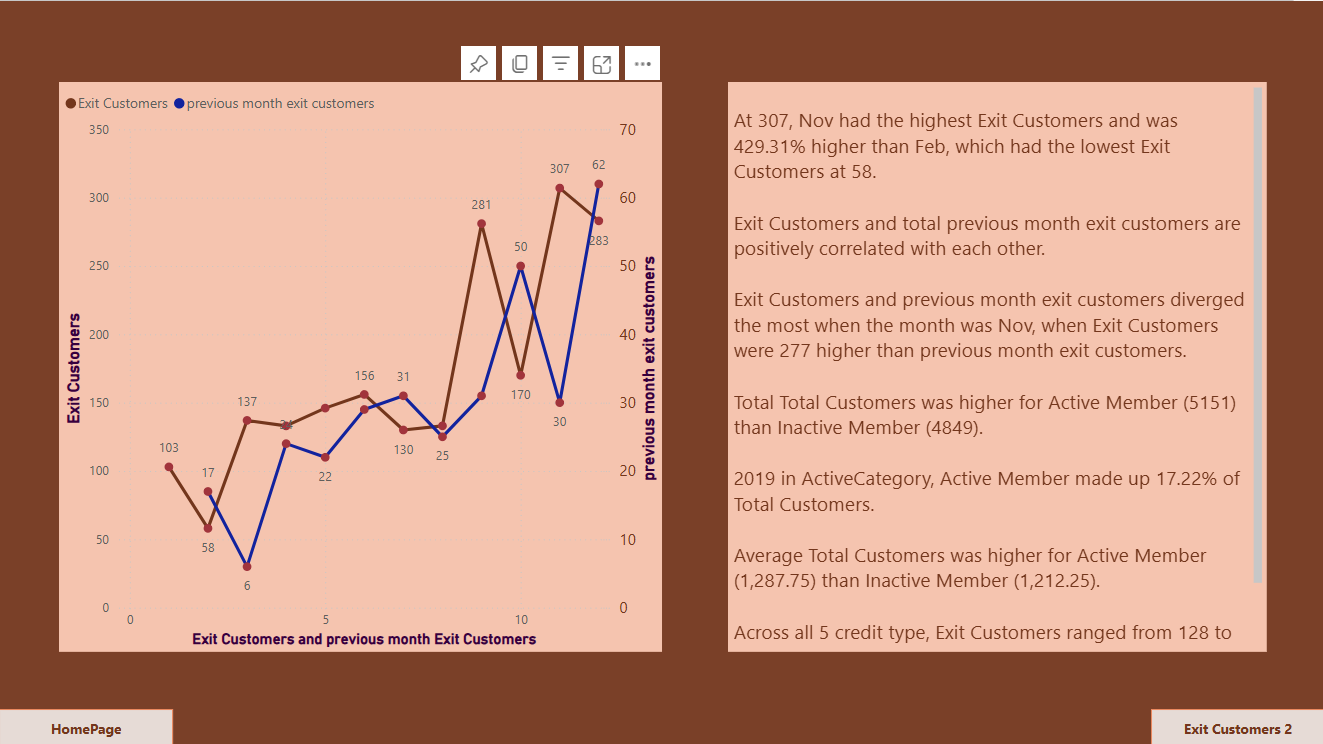

What the dashboard file says about the page in this screenshot:
{"tool":"powerbi","page":{"name":"ExitCustomers","canvas":[1280,720],"ordinal":3},"visuals":[{"type":"lineChart","fields":{"Y":["Calculations.Exit Customers"],"Category":["DateMaster.month"],"Y2":["Calculations.previous month exit customers"]},"box":[58.3,78.3,581.7,550],"z":0},{"type":"textbox","box":[703.3,78.3,520,550],"z":1000},{"type":"pageNavigator","box":[0,682.9,168.1,36.3],"z":2000},{"type":"pageNavigator","box":[1111.4,682.9,168.1,36.3],"z":3000}]}

Visuals, with their boxes in screenshot pixels (x1, y1, x2, y2), scaled from the page's 1280x720 canvas onto the 1323x744 screenshot:
lineChart - Calculations.Exit Customers x DateMaster.month: <bbox>60, 81, 662, 649</bbox>
textbox: <bbox>727, 81, 1264, 649</bbox>
pageNavigator: <bbox>0, 706, 174, 743</bbox>
pageNavigator: <bbox>1149, 706, 1322, 743</bbox>
